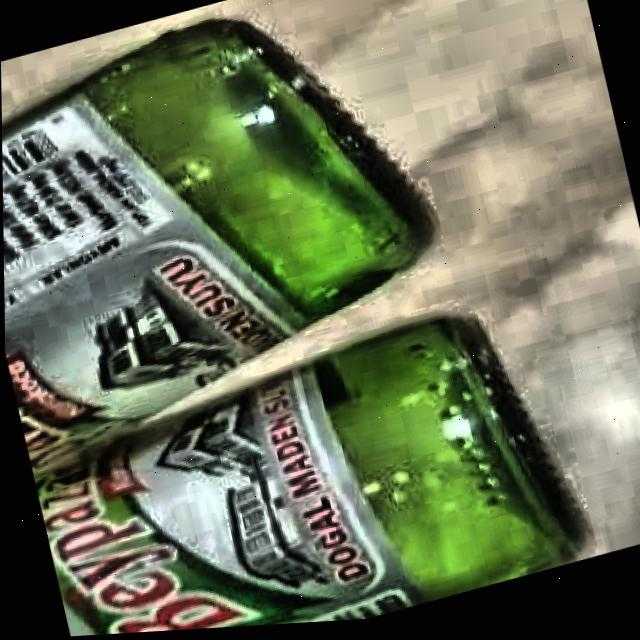glass: (1, 21, 590, 637)
